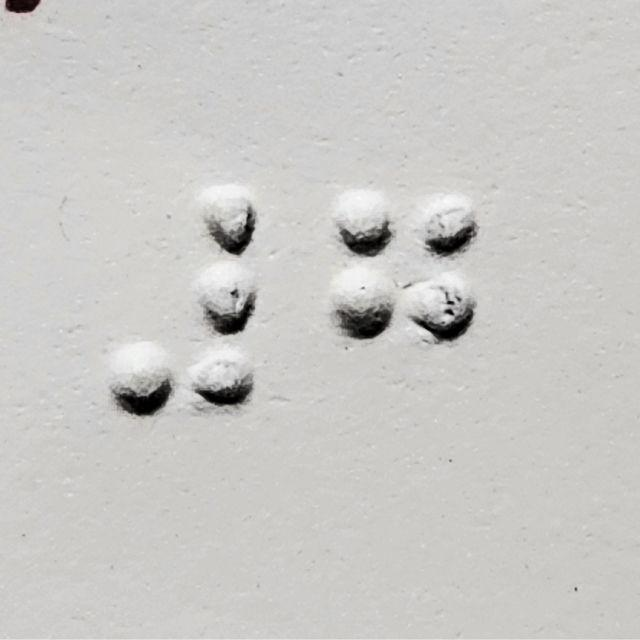7: (330, 189, 478, 425)
number: (106, 182, 254, 418)
